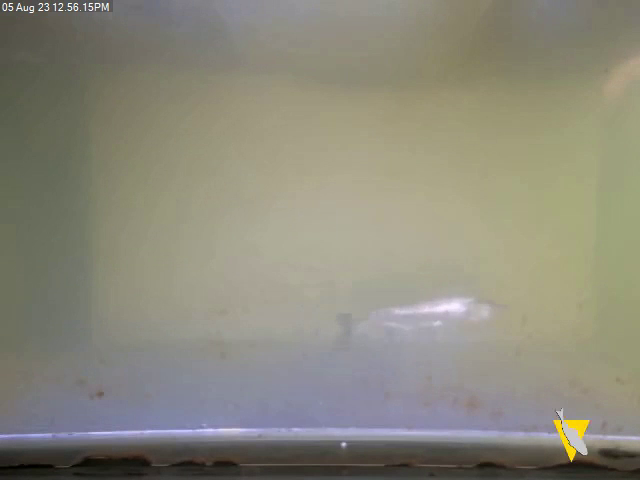\uAC15\uC900\uCE58: (330, 293, 512, 357)
